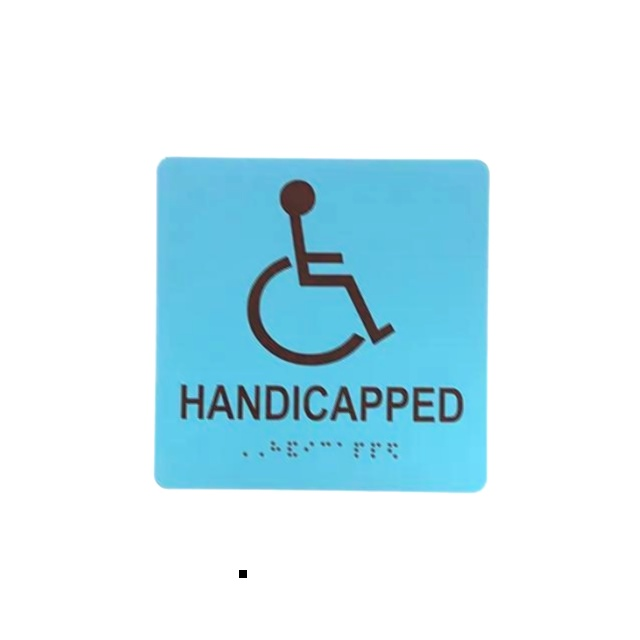ISA: (246, 172, 399, 371)
